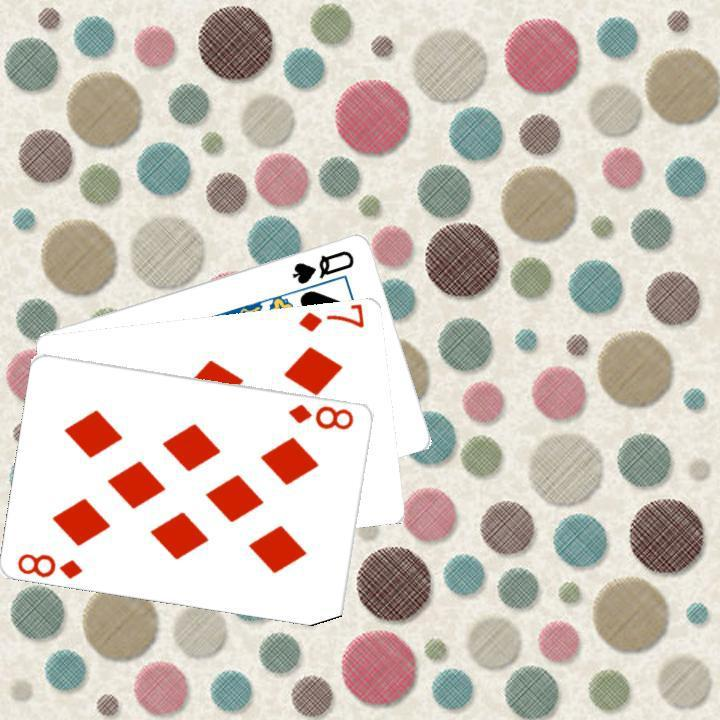7: (294, 302, 367, 333)
8: (284, 399, 356, 432), (13, 548, 85, 580)
Q: (287, 245, 357, 286)
